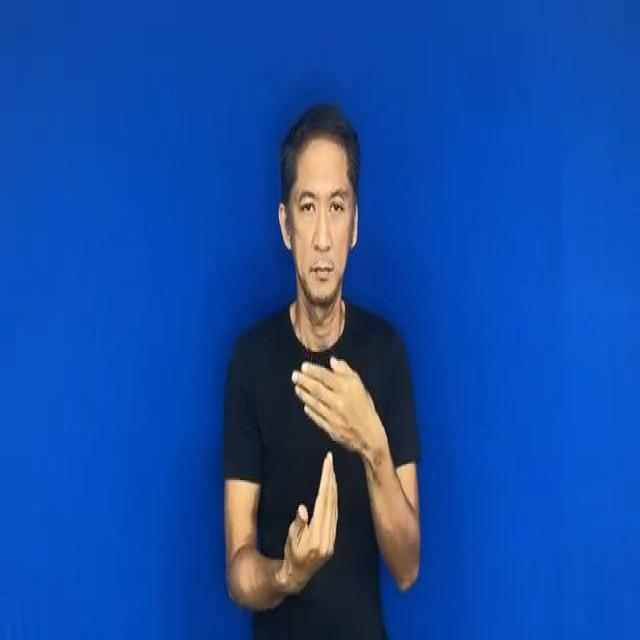bread: (278, 343, 381, 586)
